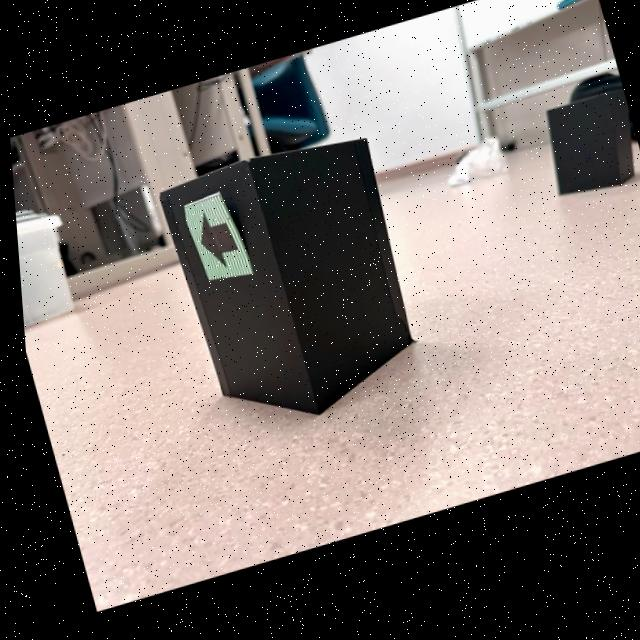LEFT: (196, 220, 232, 268)
